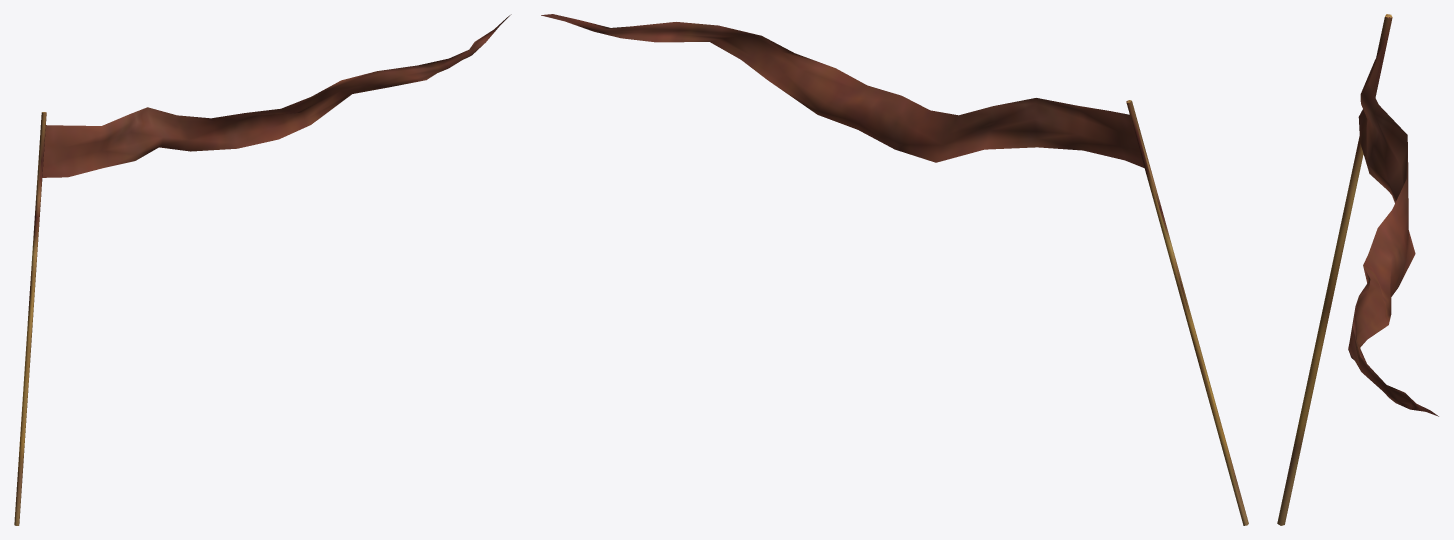
File: f_1111_deco01.FBX
3 renders of one model, left to right at view 1: azimuth 30°, elevation 25°; view 2: azimuth 150°, elevation 25°; view 3: azimuth 270°, elevation 25°, orthographic. The views are drawn at different scales.
Parts seen in each view (by area): view 1: cloth; view 2: cloth; view 3: cloth.
Part boxes in pixels (x1=…): cloth: x1=14, y1=14, x2=511, y2=525; cloth: x1=541, y1=14, x2=1248, y2=525; cloth: x1=1277, y1=14, x2=1438, y2=525.
Bounding box in the file's own units: 1589 × 1028 × 273.
